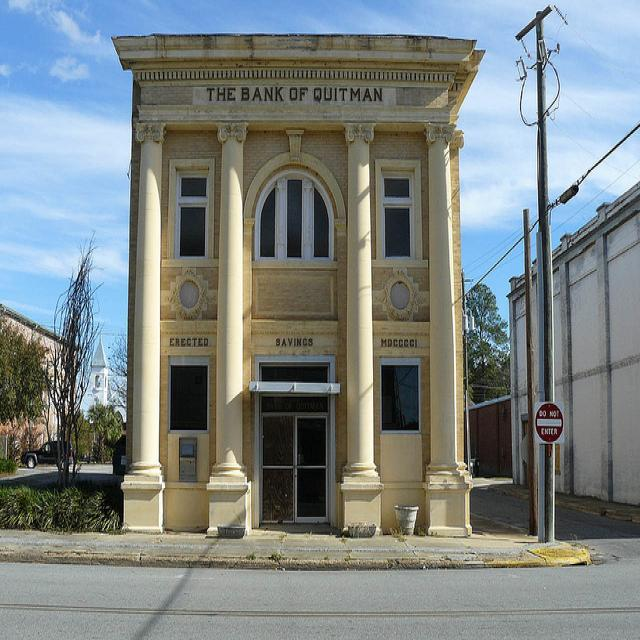Vehicle: (22, 440, 72, 470), (112, 433, 125, 475)
